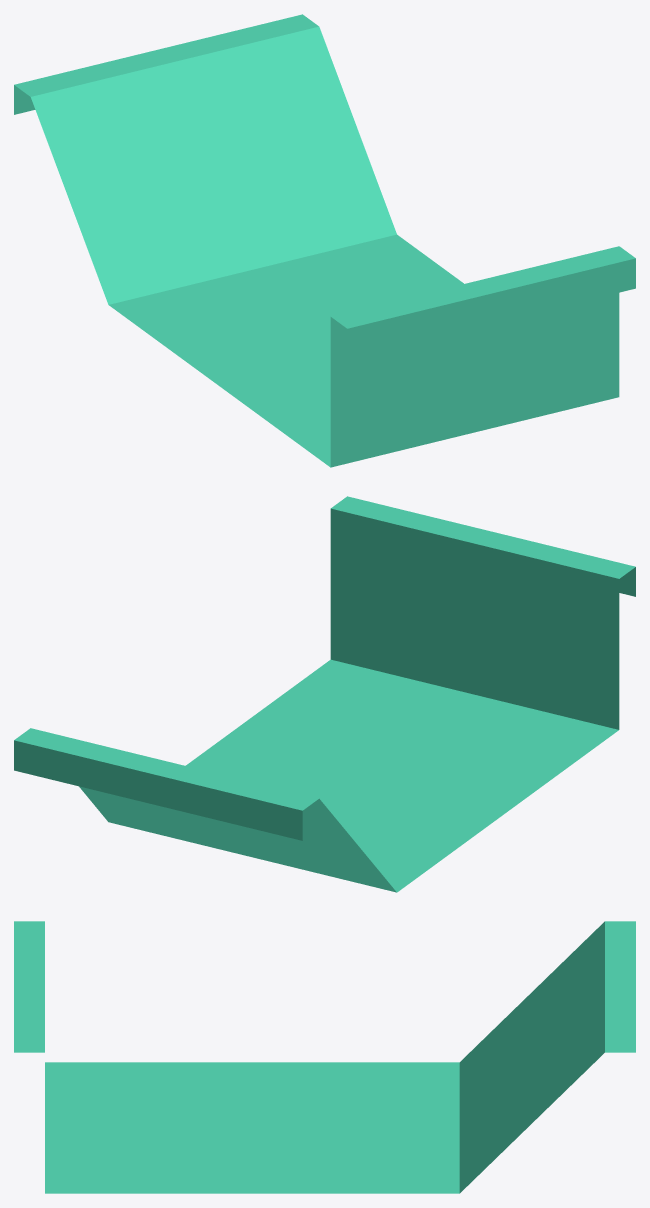
Rendered from Floor_1x2m_A.FBX.
The picture shows the model from 3 angles, top to bottom: view 1: azimuth 30°, elevation 25°; view 2: azimuth 150°, elevation 25°; view 3: azimuth 270°, elevation 25°; orthographic projection. The views are drawn at different scales.
Visible parts, largest first — view 1: Floor_1x2m_A; view 2: Floor_1x2m_A; view 3: Floor_1x2m_A.
Part boxes in pixels (x1=…): Floor_1x2m_A: x1=14, y1=14, x2=635, y2=467; Floor_1x2m_A: x1=14, y1=496, x2=635, y2=892; Floor_1x2m_A: x1=14, y1=921, x2=635, y2=1193.
Bounding box in the file's own units: 100 × 50 × 200.
